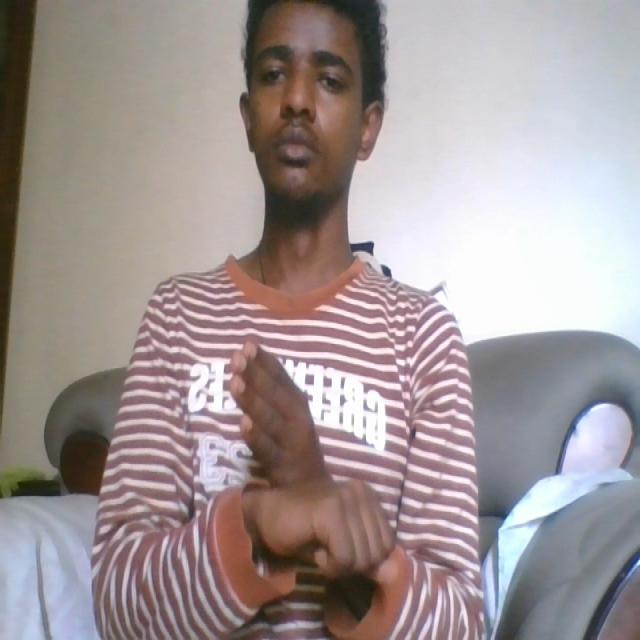behuala: (223, 335, 401, 589)
